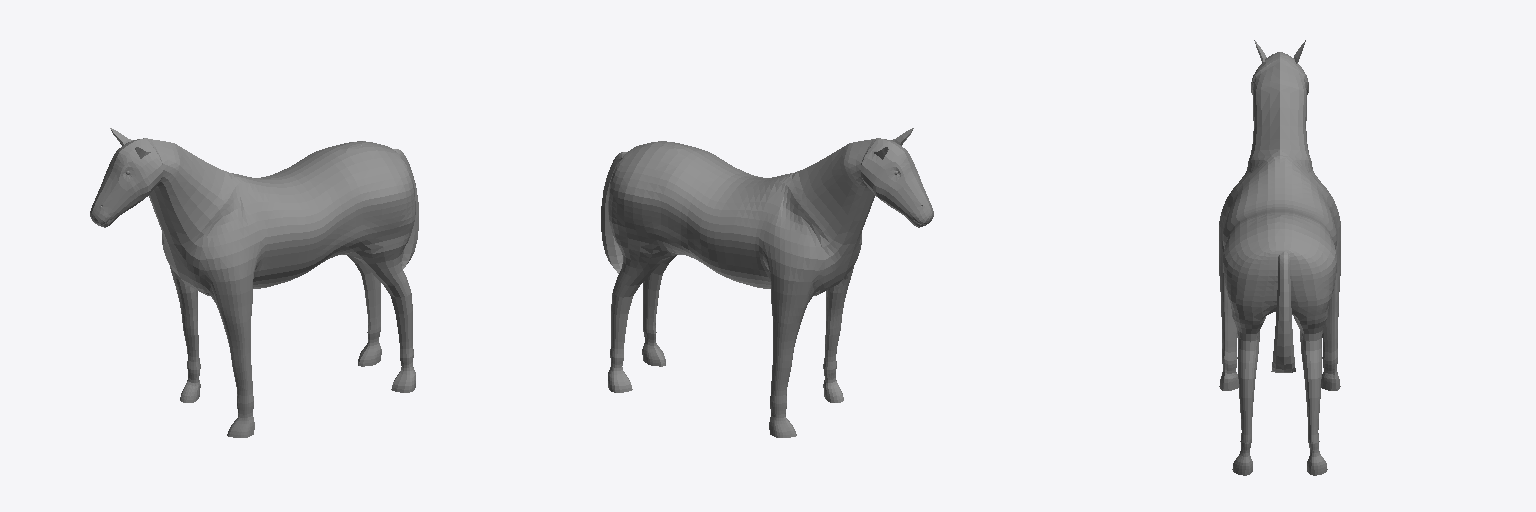
Rendered from horse.obj.
3 renders of one model, left to right at view 1: azimuth 30°, elevation 25°; view 2: azimuth 150°, elevation 25°; view 3: azimuth 270°, elevation 25°, orthographic.
Parts seen in each view (by area): view 1: Horse; view 2: Horse; view 3: Horse.
Boxes of the visible parts, x1,y1,x2,y2 form: Horse: [90, 128, 418, 437]; Horse: [601, 128, 933, 437]; Horse: [1219, 40, 1340, 475].
Bounding box in the file's own units: 485 × 427 × 157.